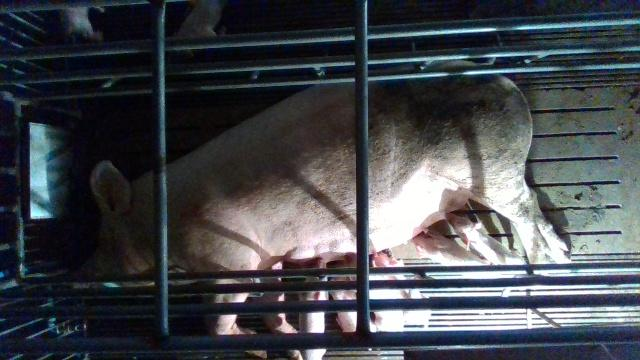piglet: (415, 225, 525, 298), (368, 250, 428, 329), (445, 208, 524, 265), (294, 258, 328, 360), (170, 0, 221, 58), (332, 259, 360, 331), (61, 6, 106, 44)
sow-sleep-lactate: (71, 61, 569, 357)
